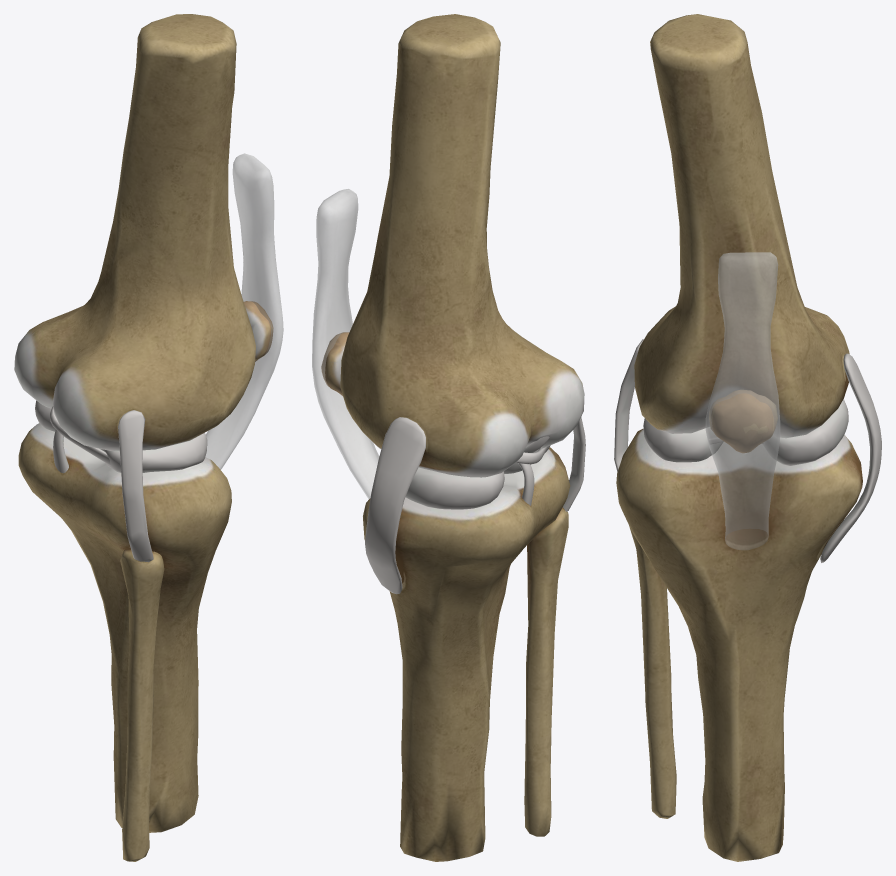
The picture shows the model from 3 angles, left to right: view 1: azimuth 30°, elevation 25°; view 2: azimuth 150°, elevation 25°; view 3: azimuth 270°, elevation 25°; orthographic projection. The views are drawn at different scales.
Parts seen in each view (by area): view 1: Bone_Low, Transparenty_Low, Mash_Low; view 2: Bone_Low, Mash_Low, Transparenty_Low; view 3: Bone_Low, Transparenty_Low, Mash_Low.
Part boxes in pixels (x1,y1,x2,y2): Bone_Low: (14, 14, 255, 861); Transparenty_Low: (205, 153, 283, 469); Mash_Low: (35, 301, 273, 562); Bone_Low: (340, 14, 584, 861); Mash_Low: (321, 332, 585, 594); Transparenty_Low: (312, 189, 379, 498); Bone_Low: (616, 14, 862, 861); Transparenty_Low: (705, 252, 780, 549); Mash_Low: (614, 339, 881, 562).
Size of the model in its own units: 0.0457 by 0.1498 by 0.0443.
Materials: 3 (3 with a texture image).
